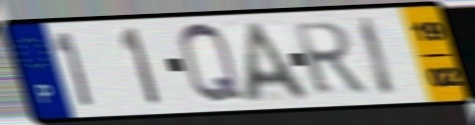1: (117, 26, 165, 108), (52, 29, 97, 110)
A: (242, 18, 316, 105)
I: (355, 14, 400, 99)
Q: (176, 21, 249, 108)
R: (290, 19, 371, 99)
